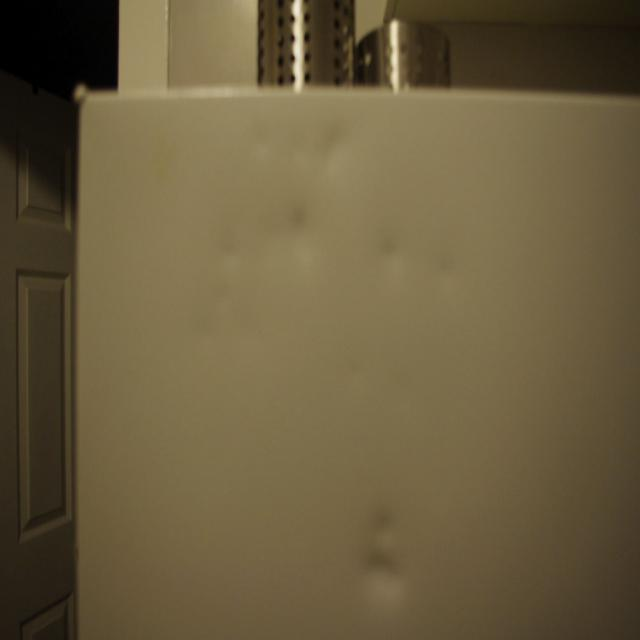dents: (362, 501, 422, 604), (306, 115, 369, 199), (388, 363, 449, 427), (366, 229, 424, 295), (205, 208, 256, 280), (423, 238, 475, 308), (176, 292, 229, 358), (284, 208, 329, 280), (334, 348, 379, 420), (237, 296, 281, 362), (245, 115, 286, 183)
